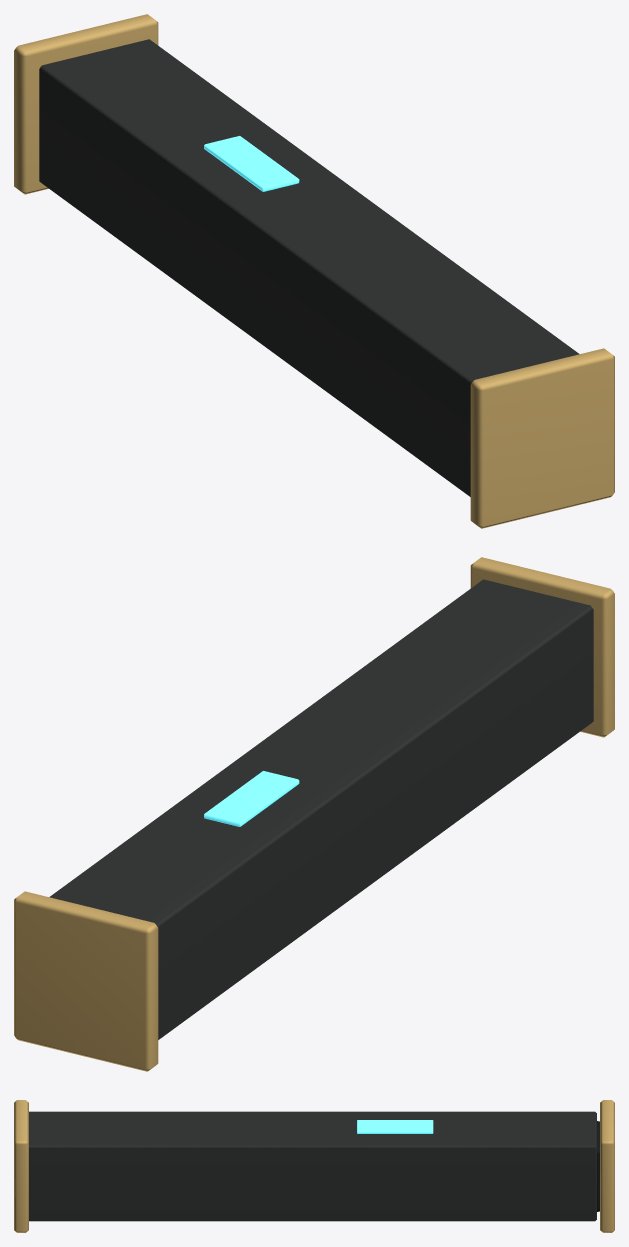
Rendered from hp_room_corner_pillar_museum.glb.
3 views of the same model, one above another, from view 1: azimuth 30°, elevation 25°; view 2: azimuth 150°, elevation 25°; view 3: azimuth 270°, elevation 25° (orthographic). The views are drawn at different scales.
Visible parts, largest first — view 1: museum_pillar_back_smoked_edge, museum_pillar_bottom_brass_cap, museum_pillar_small_cyan_status_slit; view 2: museum_pillar_back_smoked_edge, museum_pillar_bottom_brass_cap, museum_pillar_small_cyan_status_slit; view 3: museum_pillar_back_smoked_edge, museum_pillar_bottom_brass_cap, museum_pillar_small_cyan_status_slit, museum_pillar_black_square_core.
Boxes of the visible parts, x1,y1,x2,y2 form: museum_pillar_back_smoked_edge: (39,39,579,496); museum_pillar_bottom_brass_cap: (14,14,614,528); museum_pillar_small_cyan_status_slit: (204,136,299,191); museum_pillar_back_smoked_edge: (49,579,593,1039); museum_pillar_bottom_brass_cap: (14,557,614,1071); museum_pillar_small_cyan_status_slit: (204,771,299,826); museum_pillar_back_smoked_edge: (29,1111,596,1221); museum_pillar_bottom_brass_cap: (14,1100,614,1232); museum_pillar_small_cyan_status_slit: (357,1120,433,1133); museum_pillar_black_square_core: (597,1121,599,1211).
Size of the model in its own units: 0.4799 by 0.4799 by 2.83.
